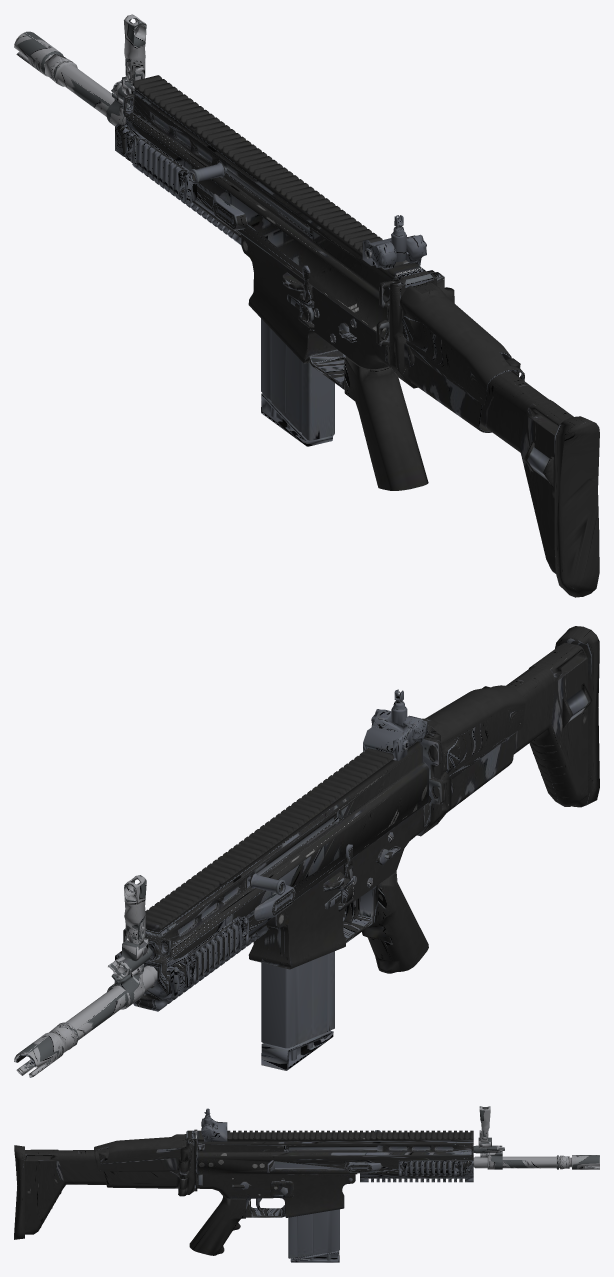
Rendered from scarl.glb.
3 views of the same model, one above another, from view 1: azimuth 30°, elevation 25°; view 2: azimuth 150°, elevation 25°; view 3: azimuth 270°, elevation 25° (orthographic). The views are drawn at different scales.
Size of the model in its own units: 0.0654 by 0.2304 by 0.8.
Materials: 1 (1 with a texture image).
